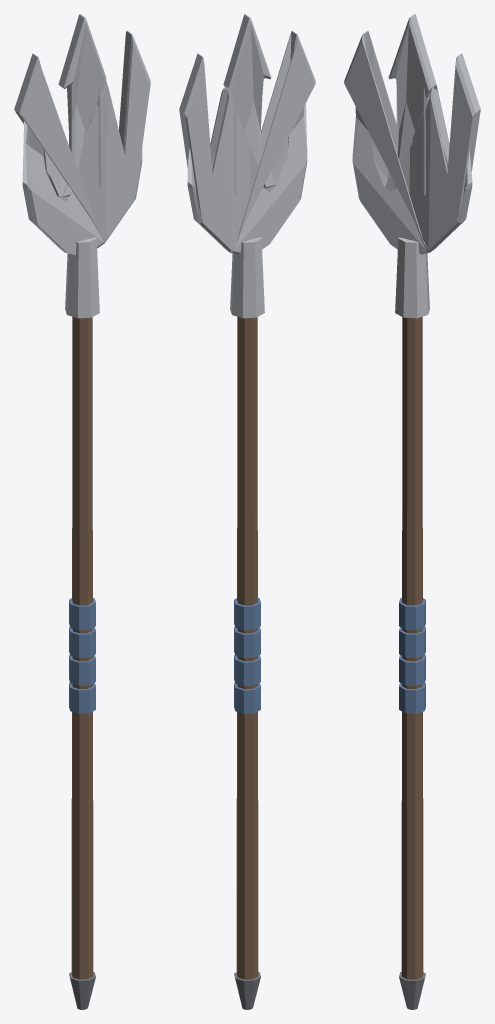
Rendered from tridente.glb.
The picture shows the model from 3 angles, left to right: view 1: azimuth 30°, elevation 25°; view 2: azimuth 210°, elevation 25°; view 3: azimuth 330°, elevation 25°; orthographic projection.
Parts seen in each view (by area): view 1: tridente; view 2: tridente; view 3: tridente.
Part boxes in pixels (box(x1,y1,x2,y2)): tridente: box(14, 14, 150, 1009); tridente: box(179, 14, 315, 1009); tridente: box(344, 14, 480, 1009).
Size of the model in its own units: 0.2965 by 2.14 by 0.0704.
